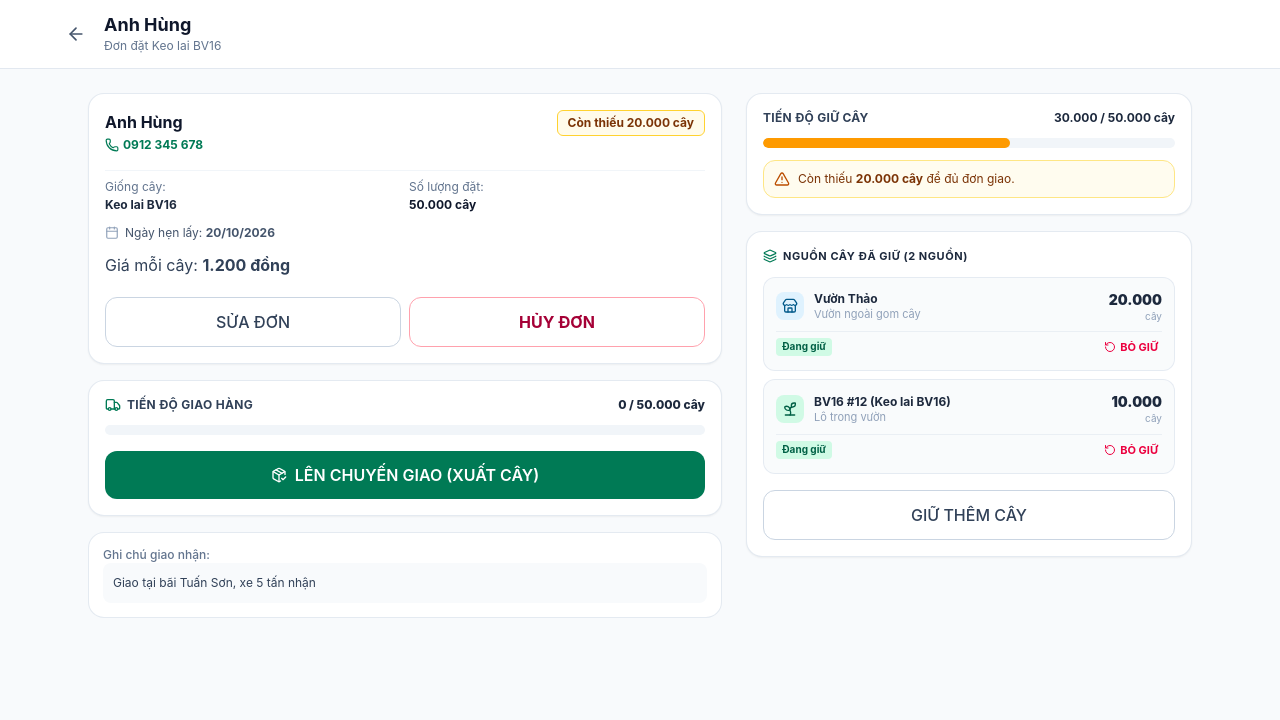
Test: FC2 Order Edit/Cancel UI › edits quantity through UI with truthful units/shortage and persists without changing source or stock
Click the button "SỬA ĐƠN" at (253, 322), box [105,297,401,347]
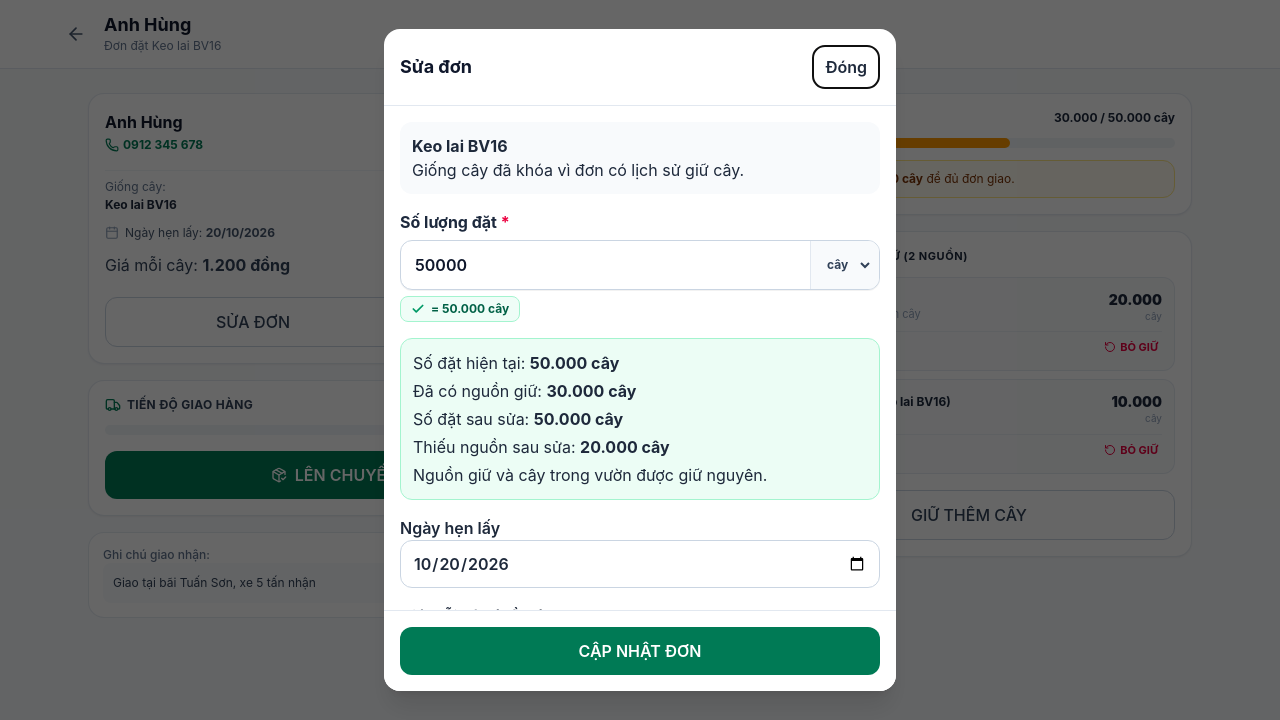
Expected: the field labelled "Số lượng đặt *" holds "50000", [401,241,810,289]
Expected: the dropdown named "Đơn vị tính số lượng" shows "cây"
Select "vạn" in the dropdown named "Đơn vị tính số lượng" at (844, 265), box [815,243,873,287]
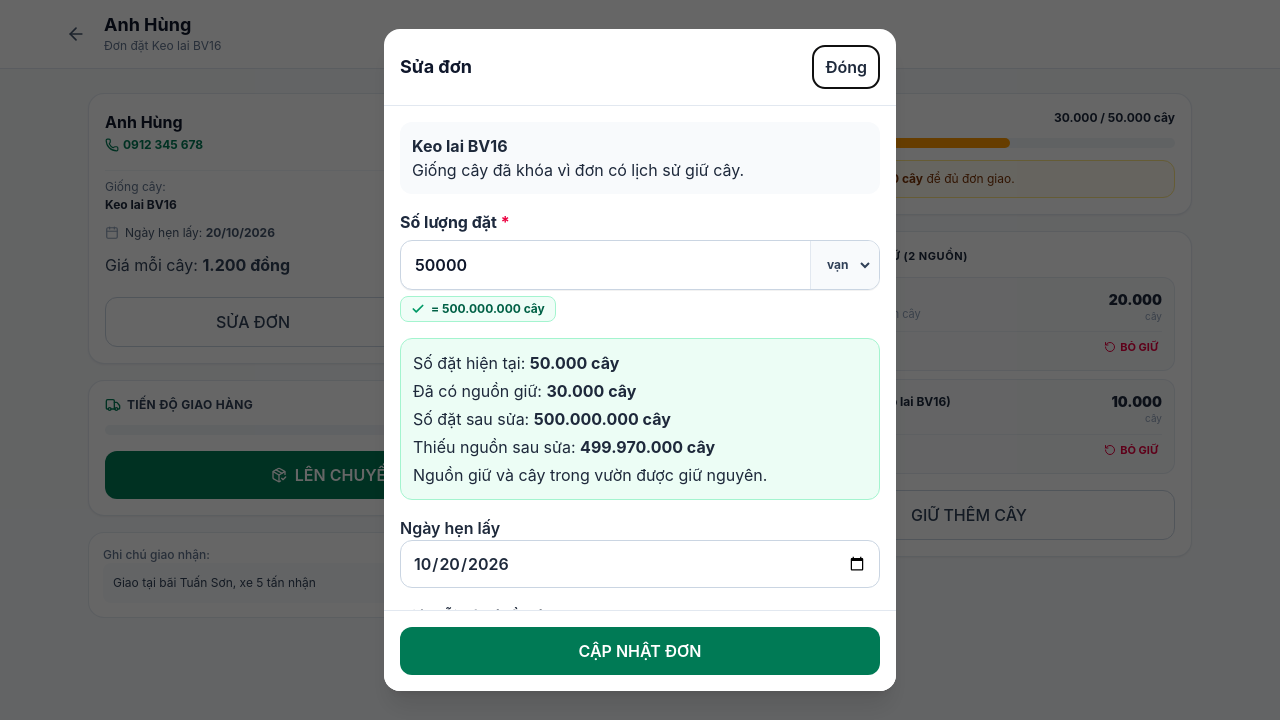
Replace the text in the field labelled "Số lượng đặt *" with "6" at (606, 265), box [401,241,810,289]
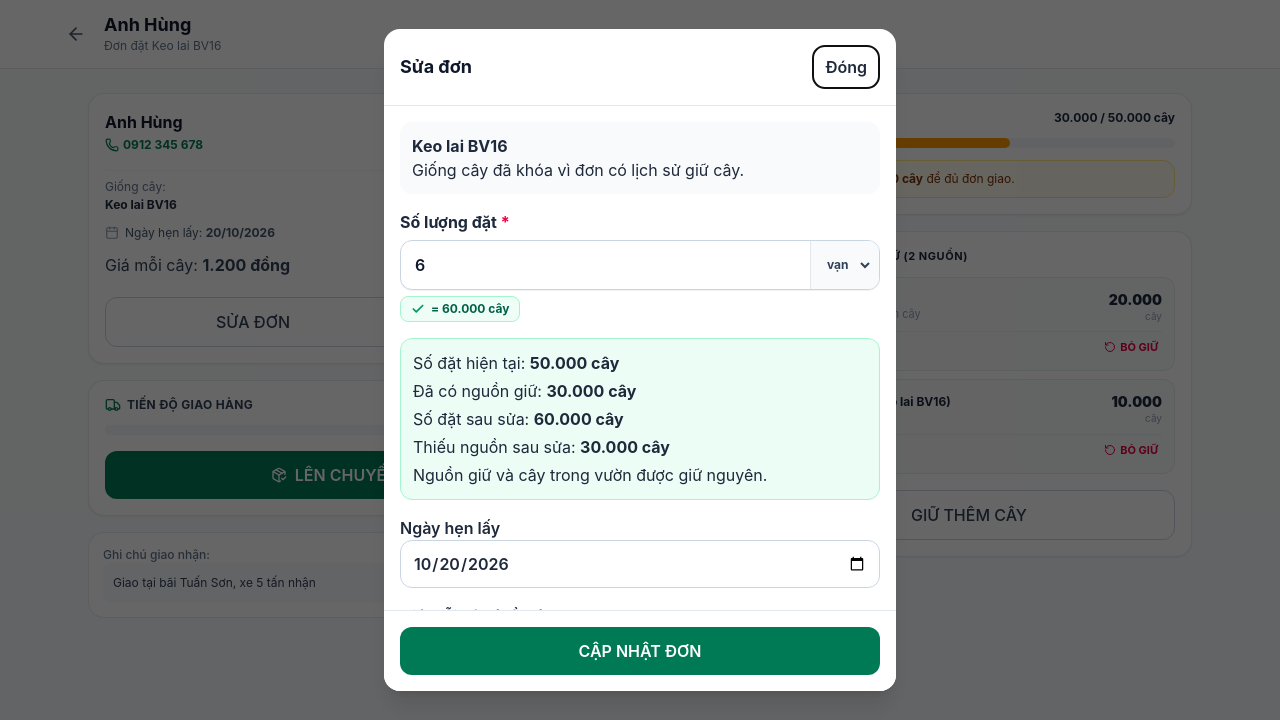
Expected: the text "= 60.000 cây" is shown, [431,301,510,317]
Expected: the text "Thiếu nguồn sau sửa: 30.000 cây" is shown, [413,437,670,457]
Click the button "CẬP NHẬT ĐƠN" at (640, 651), box [400,627,880,675]
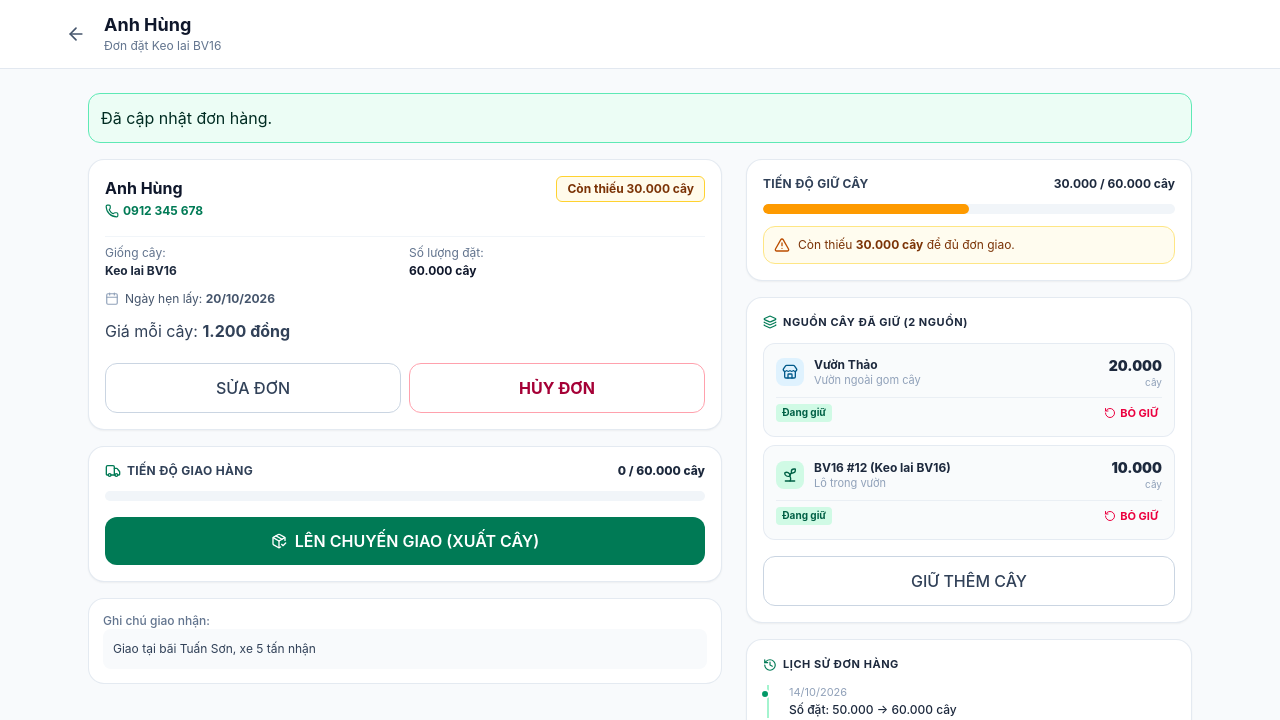
Expected: the message "Đã cập nhật đơn hàng." is shown, [88,93,1192,143]
Expected: the text "Số đặt: 50.000 → 60.000 cây" is shown, [789,702,957,717]
